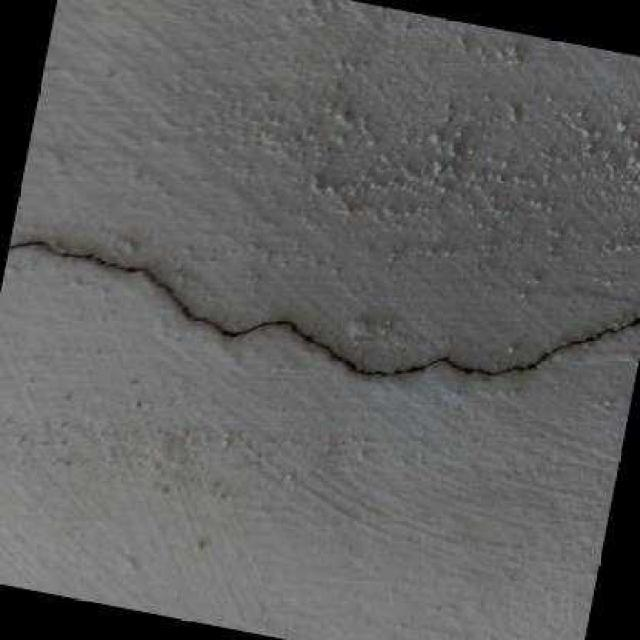D00: (60, 251, 640, 378), (8, 241, 44, 249)
